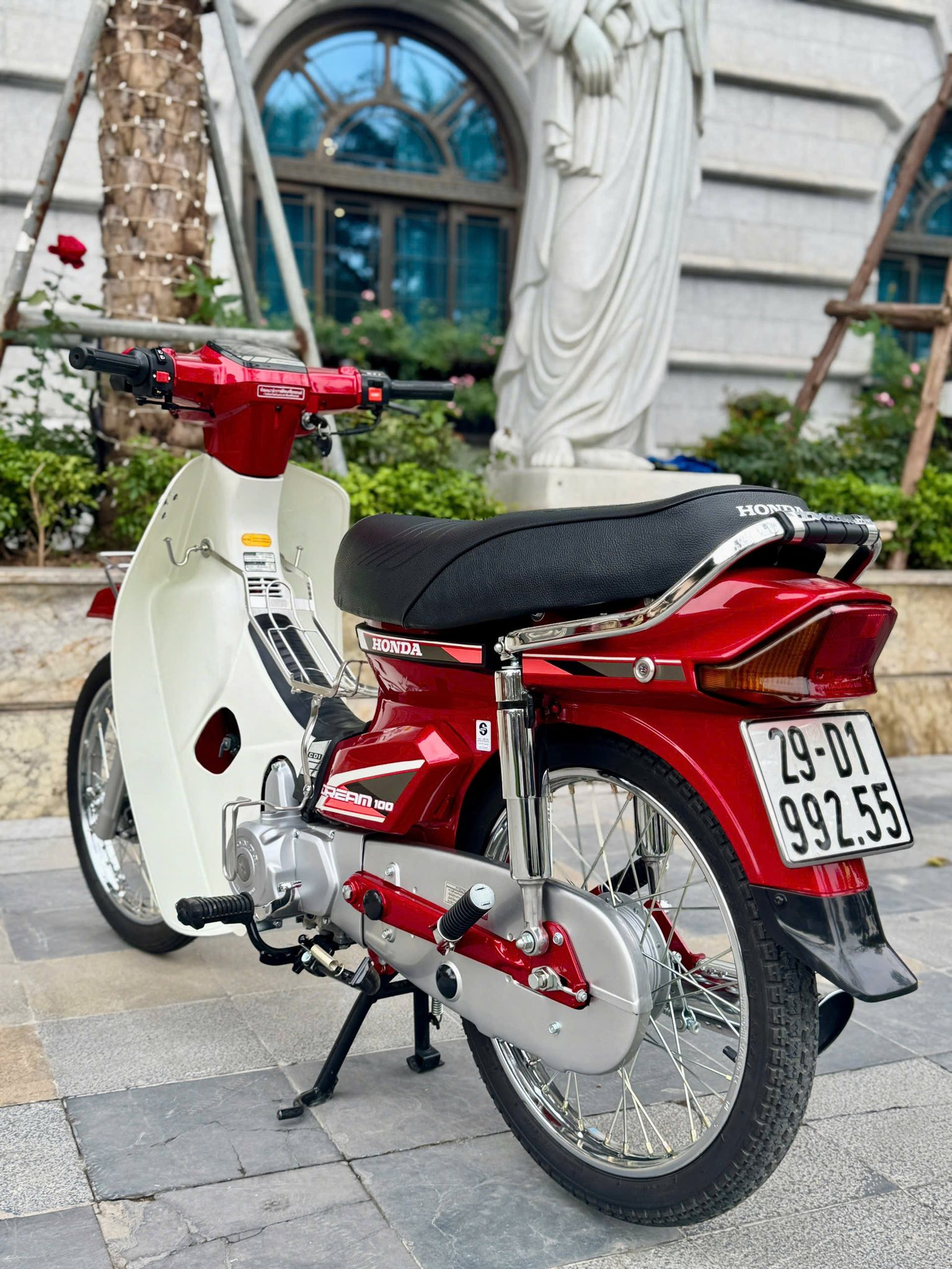bien_so: (733, 703, 922, 874)
